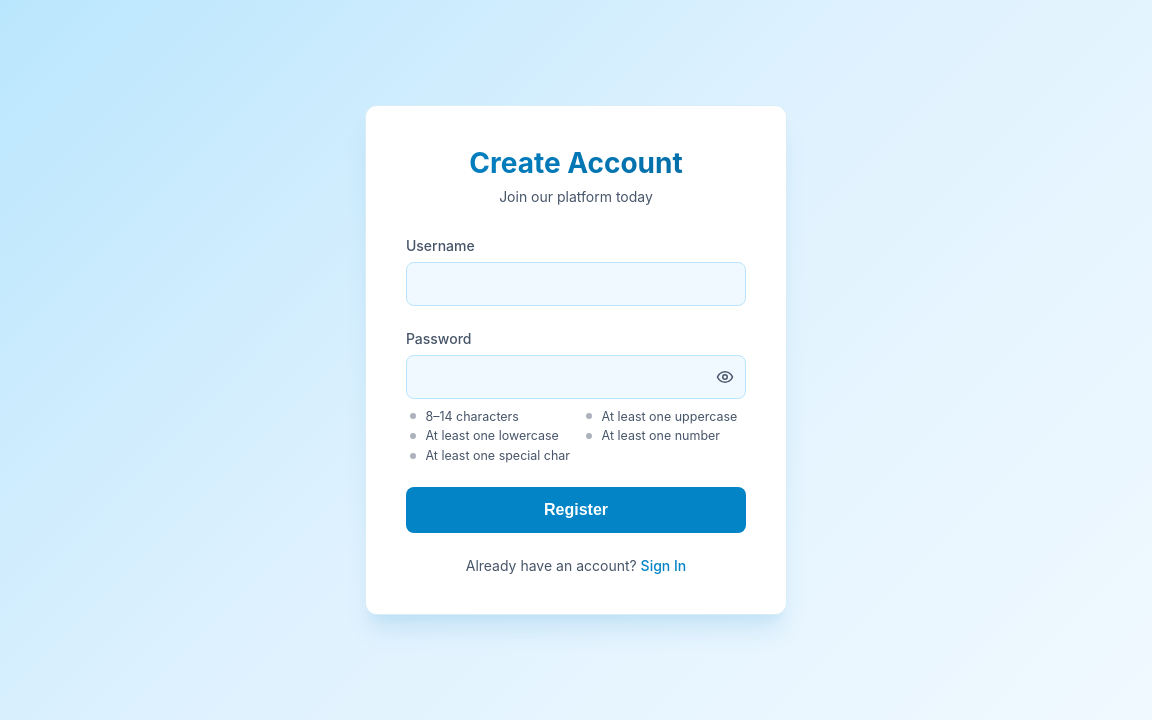
Scenario: Register page › shows error when password does not meet requirements
Step 1. Type "user" into the field labelled "Username" → [576, 284], box [406,262,746,306]
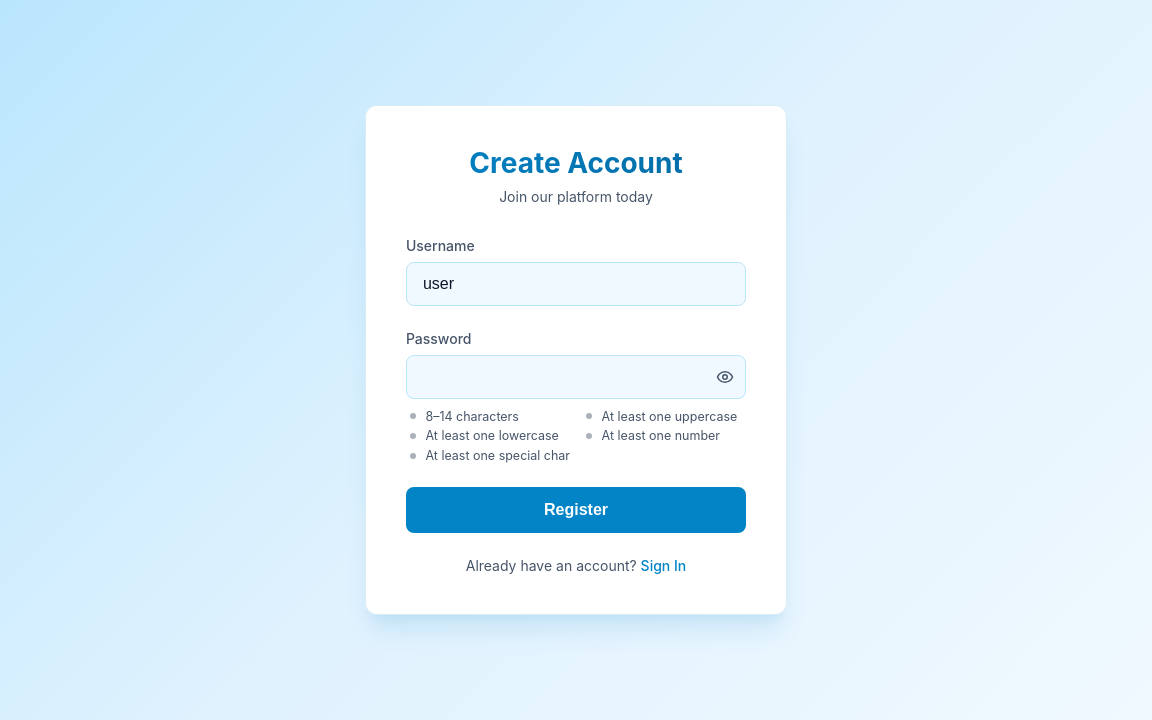
Step 2. Type "weak" into the password field labelled "Password" → [576, 377], box [406,355,746,399]
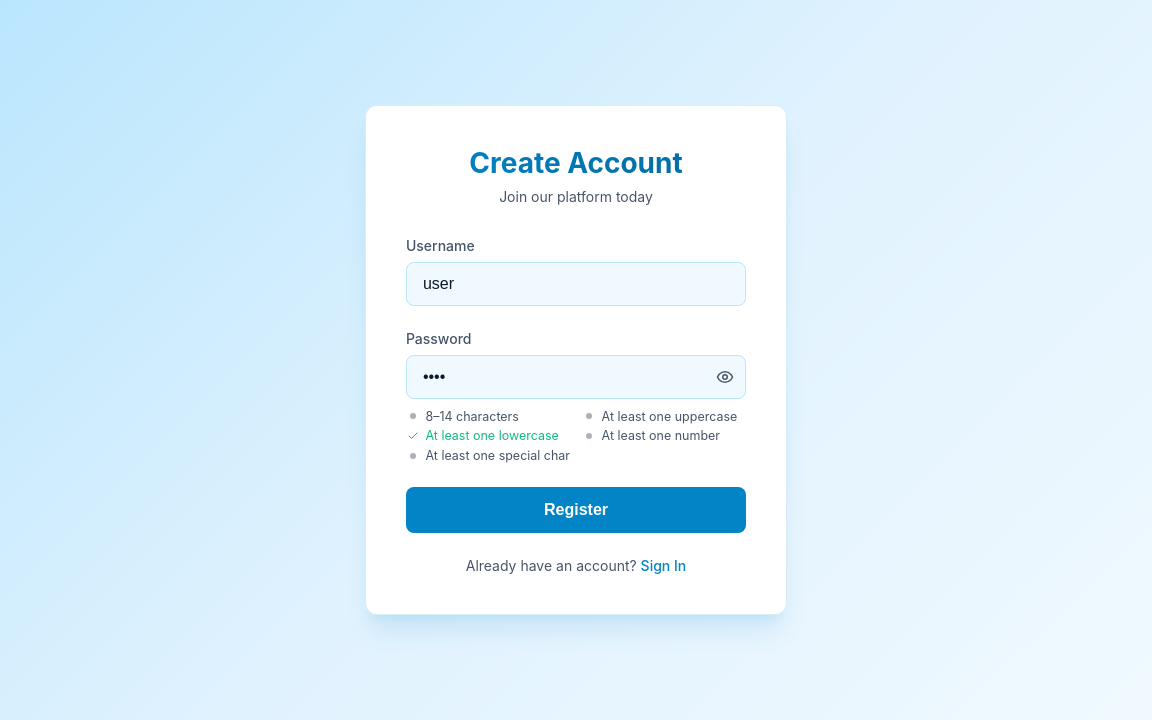
Step 3. Click the button "Register" → [576, 510], box [406,487,746,533]
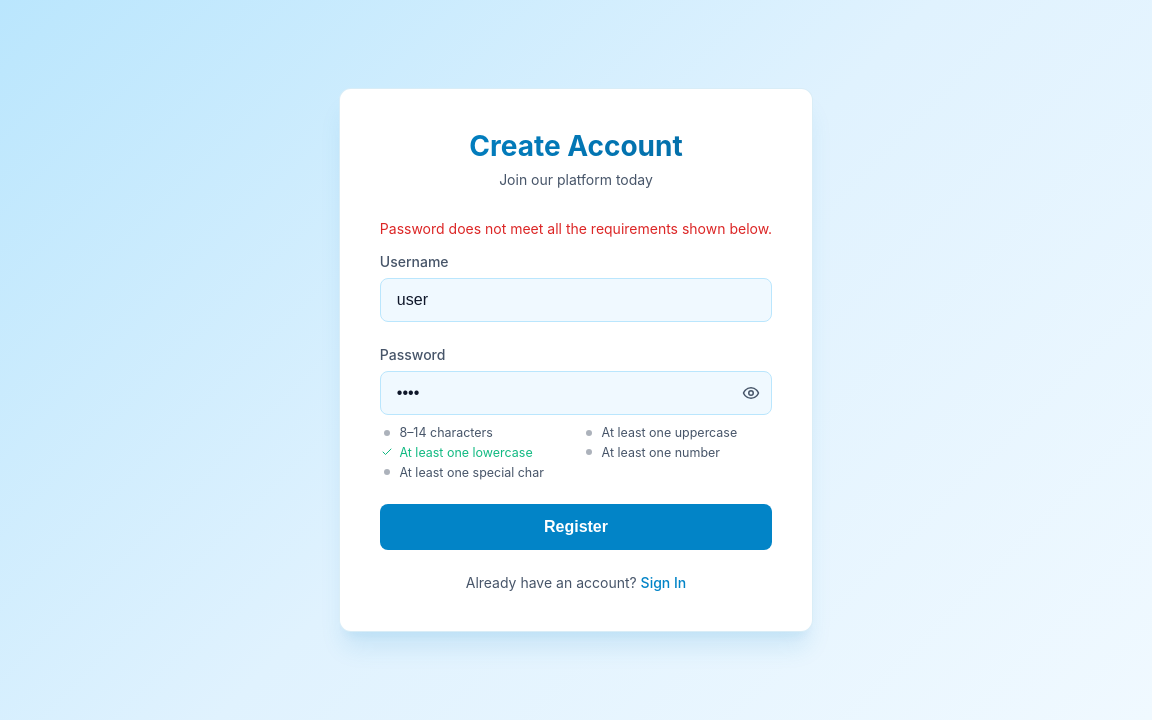
Result: the text "Password does not meet all the requirements shown below." is shown at [380,220,772,237]
